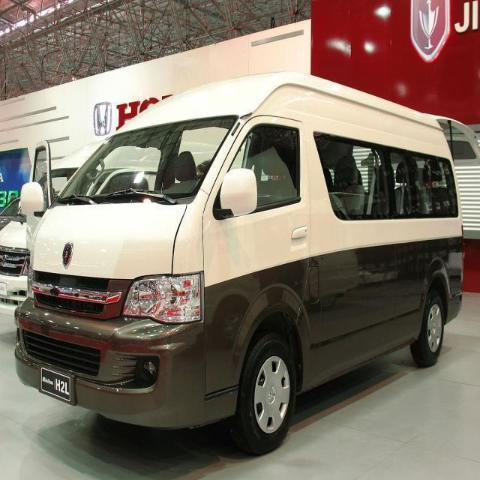van: (19, 77, 470, 444)
